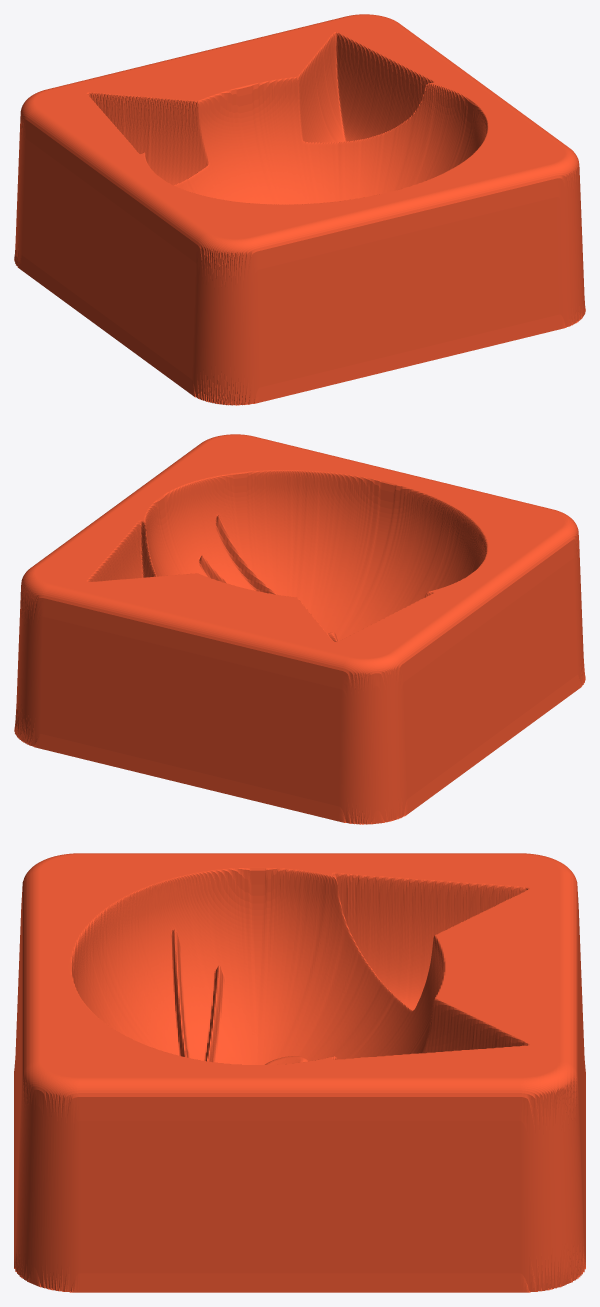
Rendered from mold.glb.
3 renders of one model, top to bottom at view 1: azimuth 30°, elevation 25°; view 2: azimuth 150°, elevation 25°; view 3: azimuth 270°, elevation 25°, orthographic. The views are drawn at different scales.
Parts seen in each view (by area): view 1: geometry_0; view 2: geometry_0; view 3: geometry_0.
Part boxes in pixels (box(x1,y1,x2,y2)): geometry_0: box(14, 14, 585, 405); geometry_0: box(14, 434, 585, 824); geometry_0: box(14, 853, 585, 1292).
Size of the model in its own units: 0.0798 by 0.031 by 0.0788.
